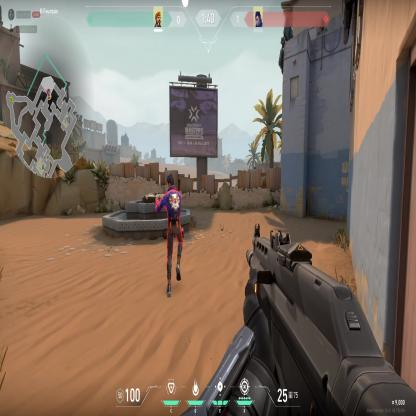enemy: (158, 173, 186, 303)
